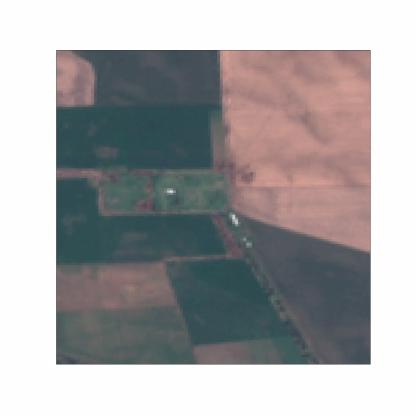silobolsa: (229, 209, 240, 230)
